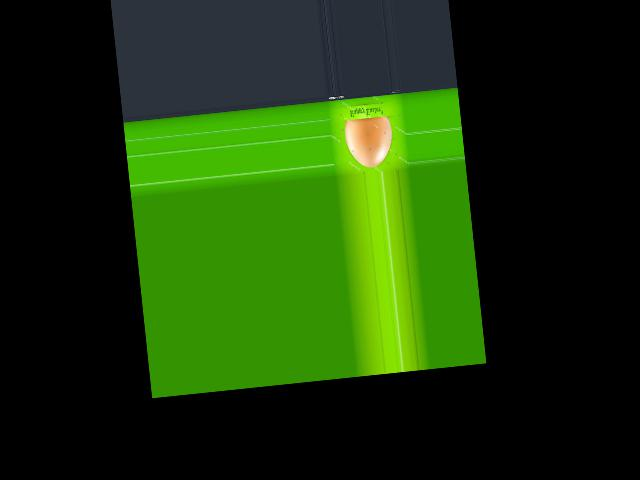egg: (344, 116, 395, 169)
